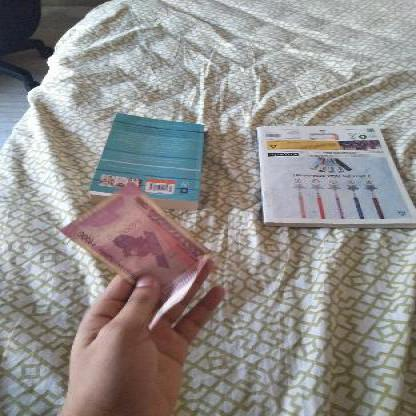New2000Back: (61, 204, 214, 306)
